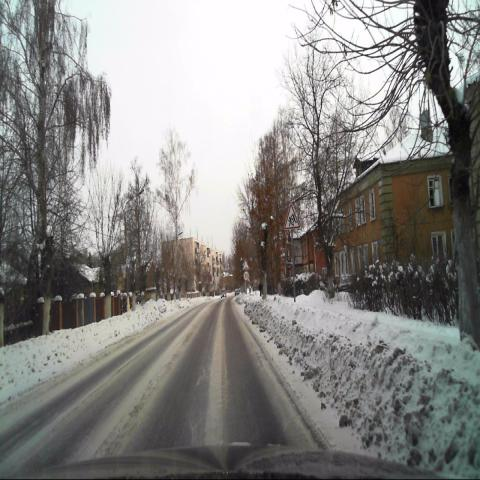1_23: (284, 203, 300, 230)
